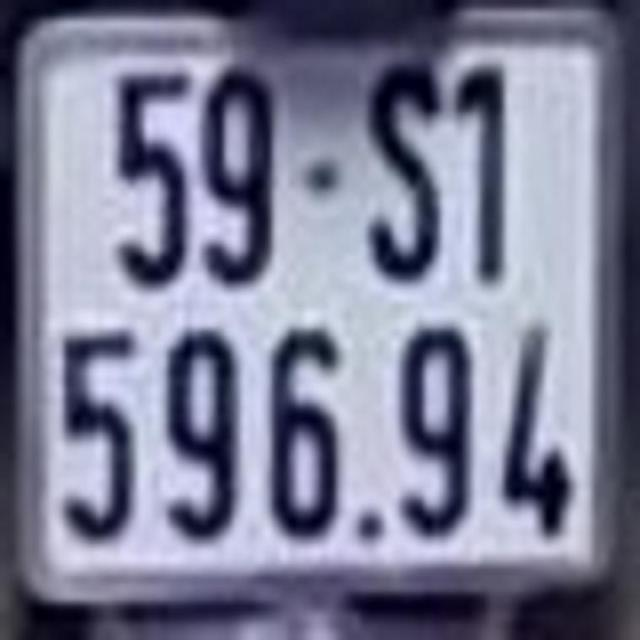1: (457, 60, 507, 282)
4: (501, 321, 575, 545)
5: (60, 326, 134, 536), (114, 70, 184, 276)
6: (272, 324, 343, 535)
9: (198, 69, 278, 288), (162, 327, 235, 538), (396, 320, 471, 523)
S: (363, 63, 449, 282)
